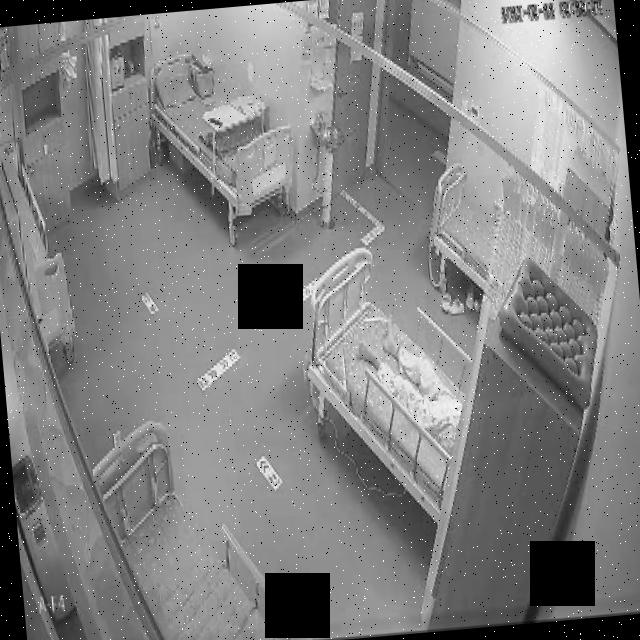bed: (87, 406, 311, 640), (298, 242, 476, 526), (146, 48, 297, 222), (424, 162, 499, 296)
lie: (353, 303, 467, 463)
patient: (353, 302, 466, 464)
